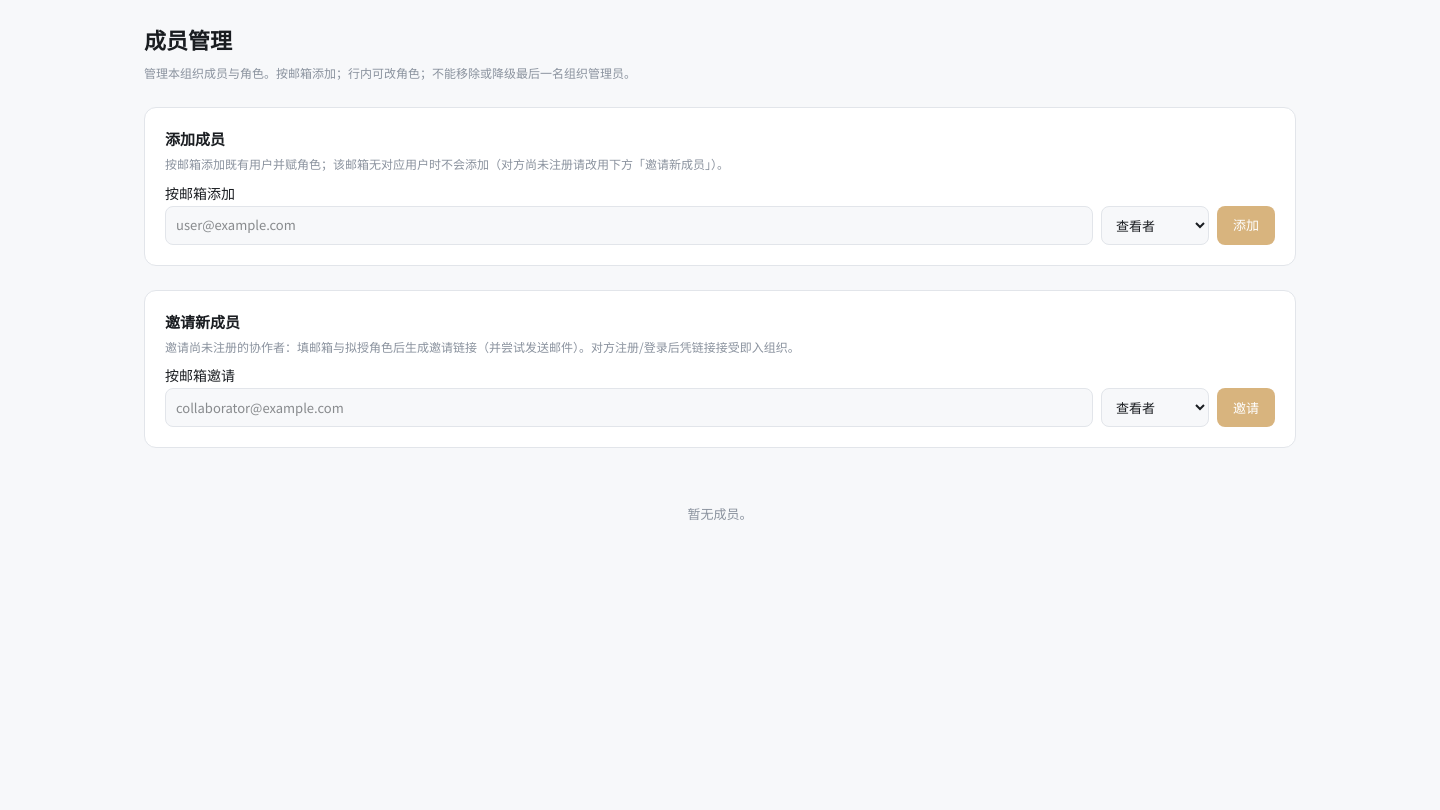
MembersPage › shows already-member toast on invite 409
In the field labelled "按邮箱邀请": {"x": 629, "y": 408} [165,388,1093,427], type "dup@example.com"
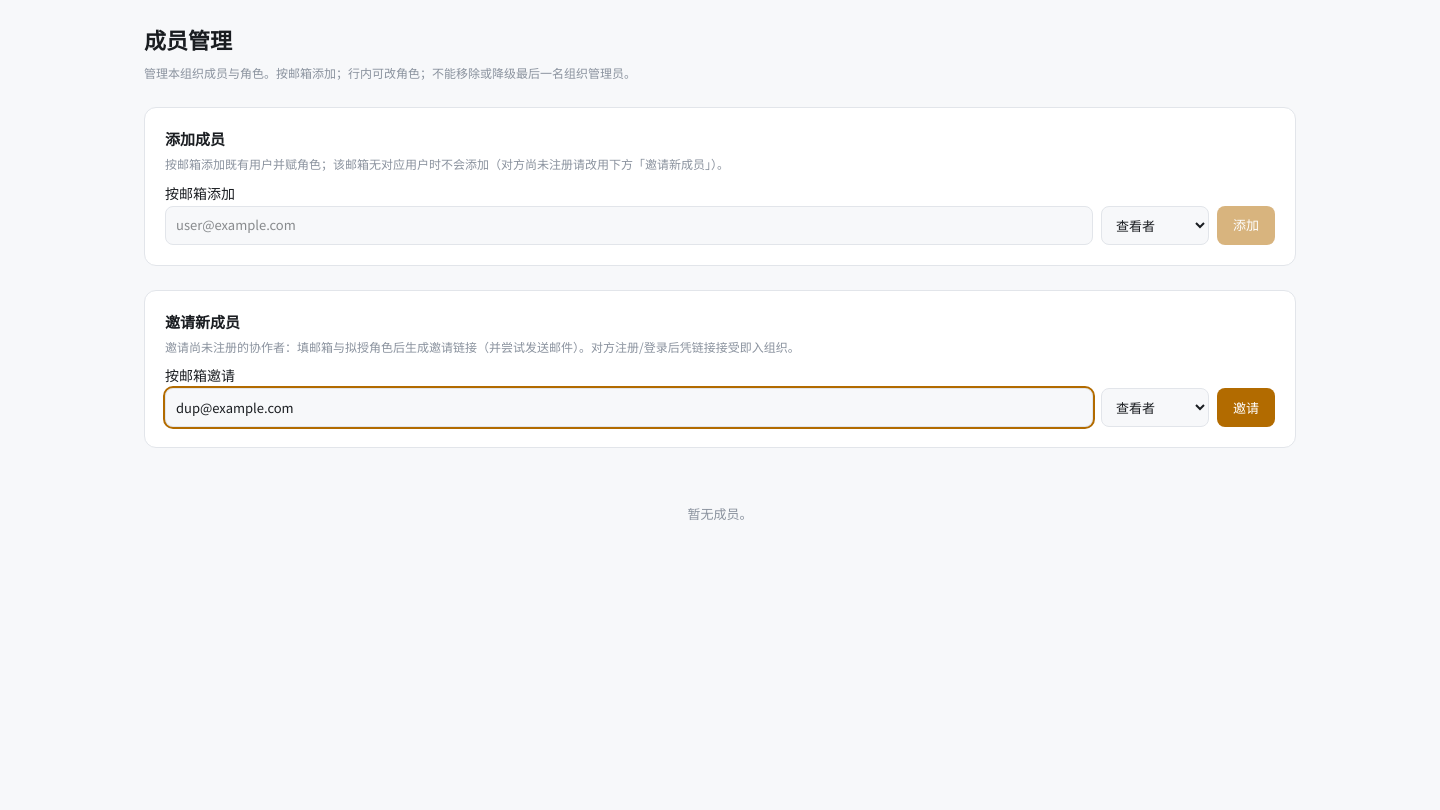
Click the button "邀请": {"x": 1246, "y": 408} [1217,388,1275,427]
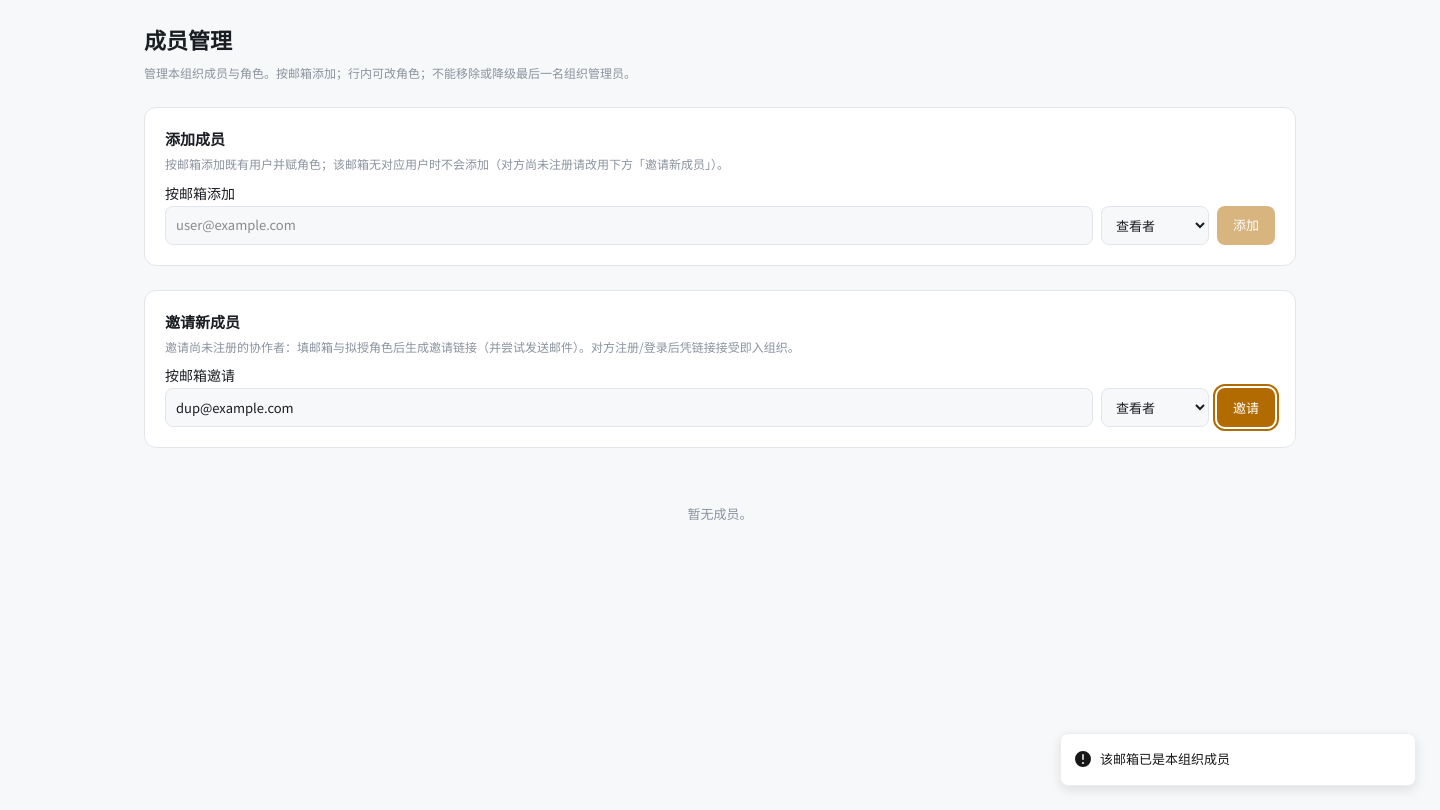
Expected: the text "该邮箱已是本组织成员" is shown, [1100,750,1230,769]
